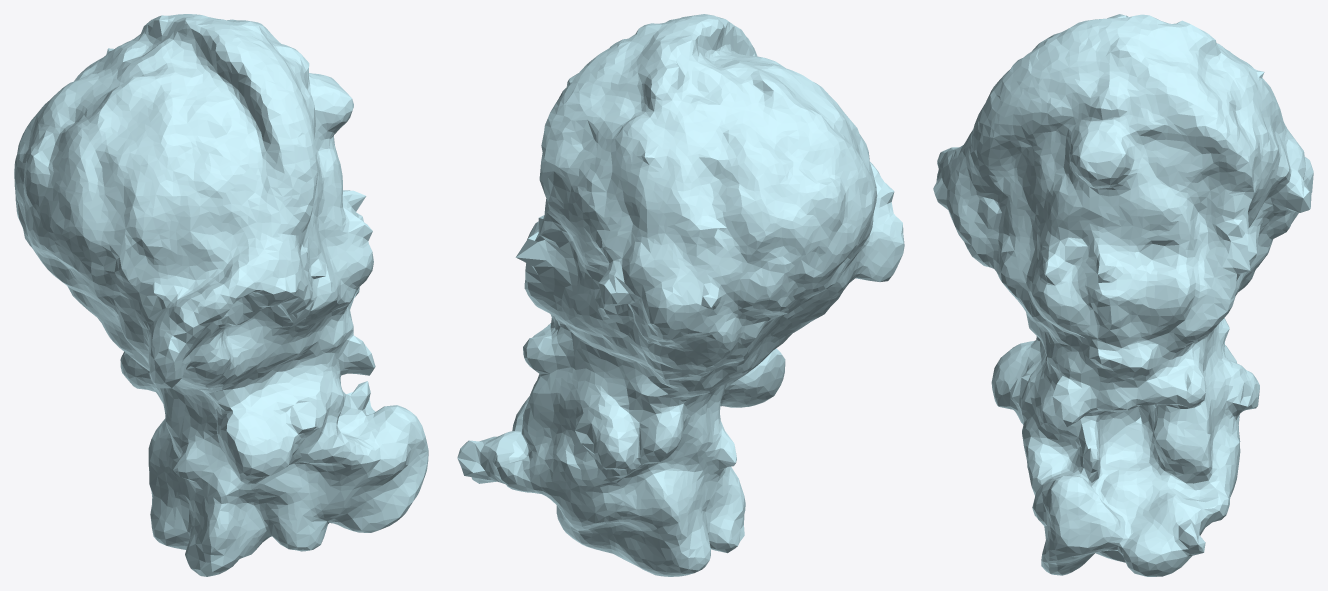
Rendered from baby_astronaut-canny.glb.
The picture shows the model from 3 angles, left to right: view 1: azimuth 30°, elevation 25°; view 2: azimuth 150°, elevation 25°; view 3: azimuth 270°, elevation 25°; orthographic projection. The views are drawn at different scales.
Parts seen in each view (by area): view 1: extracted_mesh; view 2: extracted_mesh; view 3: extracted_mesh.
Boxes of the visible parts, x1,y1,x2,y2 form: extracted_mesh: (14,14,428,576); extracted_mesh: (457,14,904,576); extracted_mesh: (933,14,1313,576).
Bounding box in the file's own units: 0.8201 × 1.14 × 0.7548.
Materials: 1 (1 with a texture image).
